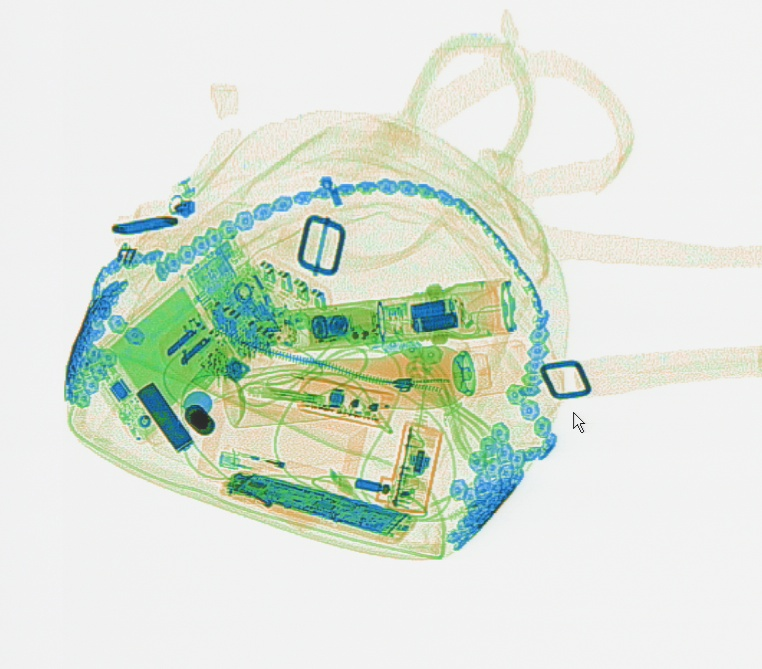lighter: (215, 449, 340, 485)
pressure: (218, 338, 531, 429)
